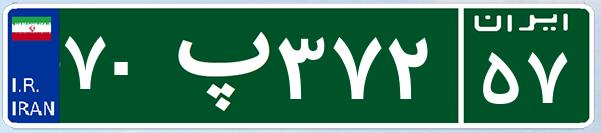0: (110, 28, 158, 105)
2: (385, 28, 445, 110)
3: (273, 28, 330, 110)
5: (475, 38, 525, 113)
7: (330, 28, 385, 110), (57, 26, 110, 107), (525, 38, 570, 115)
پ: (158, 15, 273, 115)
